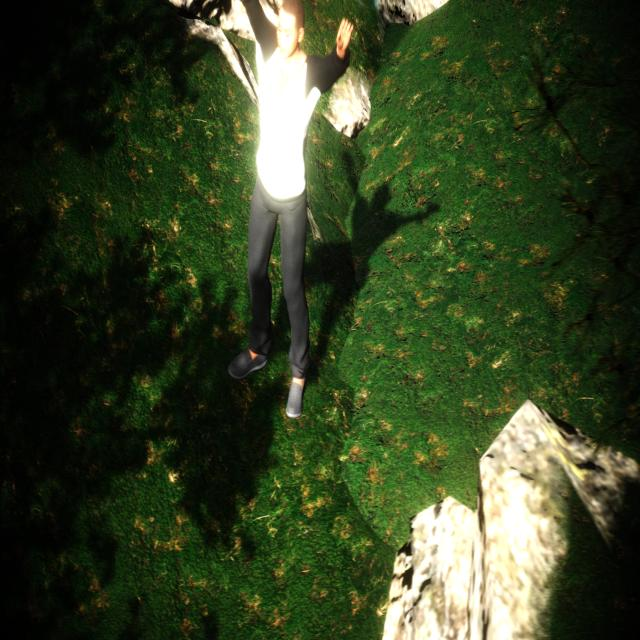Human: (222, 0, 356, 421)
